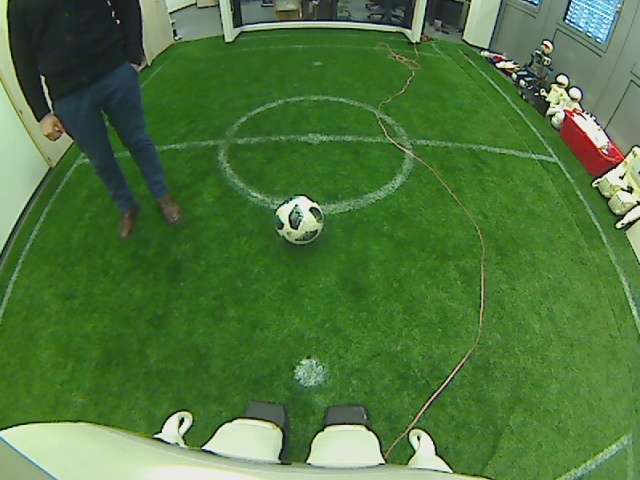ball: (273, 195, 325, 243)
